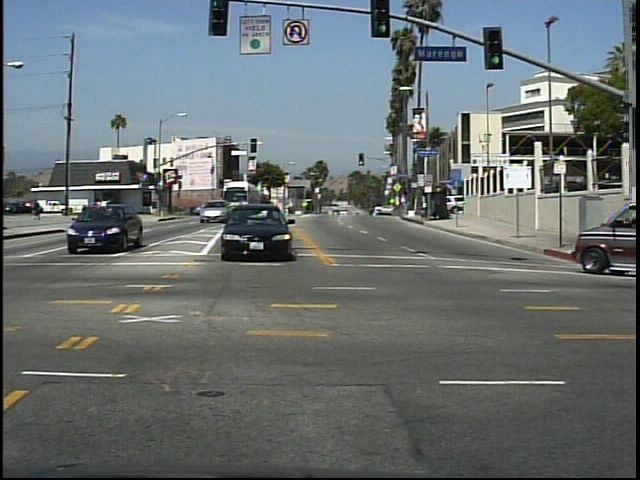person: (30, 194, 44, 223)
